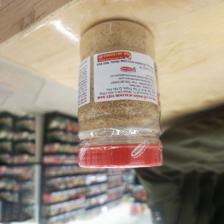Hao_hao: (74, 18, 164, 170)
